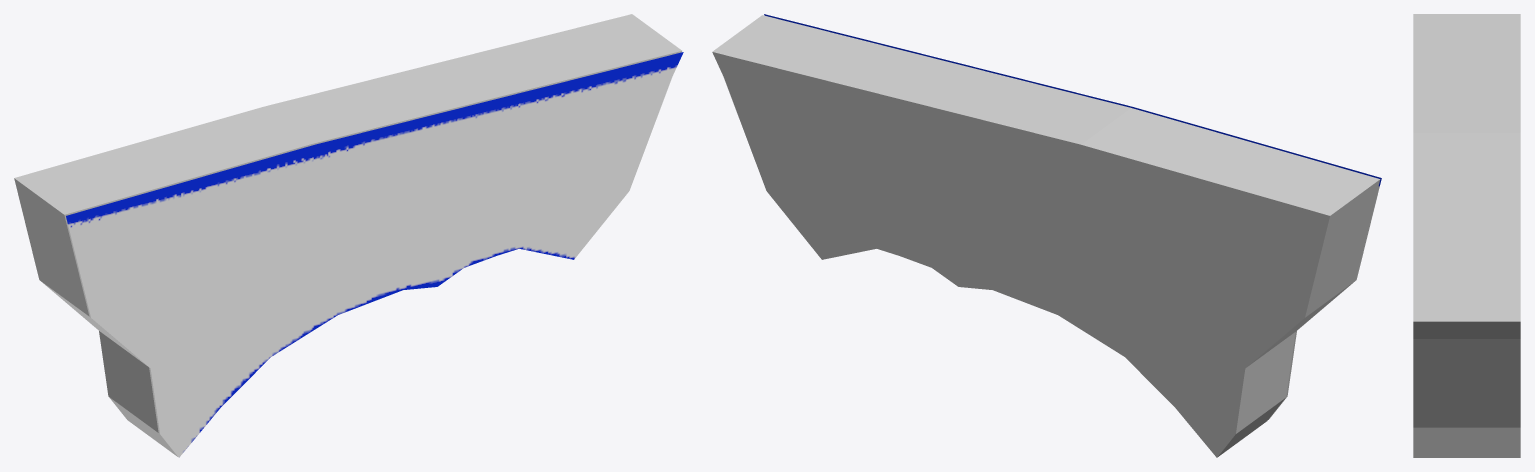
3 views of the same model, side by side, from view 1: azimuth 30°, elevation 25°; view 2: azimuth 150°, elevation 25°; view 3: azimuth 270°, elevation 25° (orthographic). The views are drawn at different scales.
Visible parts, largest first — view 1: Out_4_1, Out_4_0; view 2: Out_4_0, Out_4_1; view 3: Out_4_0.
Boxes of the visible parts, x1,y1,x2,y2 form: Out_4_1: (66, 52, 683, 457); Out_4_0: (14, 14, 681, 456); Out_4_0: (712, 15, 1380, 457); Out_4_1: (764, 14, 1381, 419); Out_4_0: (1413, 14, 1520, 457).
Bounding box in the file's own units: 3.55 × 1.55 × 0.515.
Materials: 2 (1 with a texture image).
